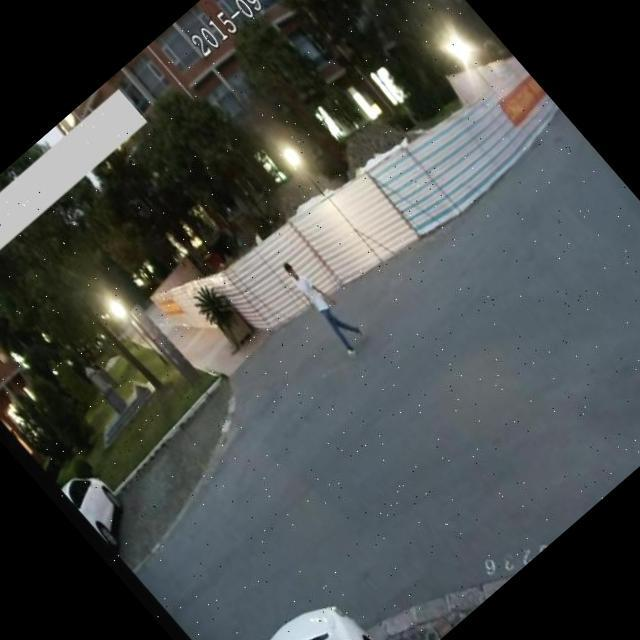person: (271, 246, 384, 369)
